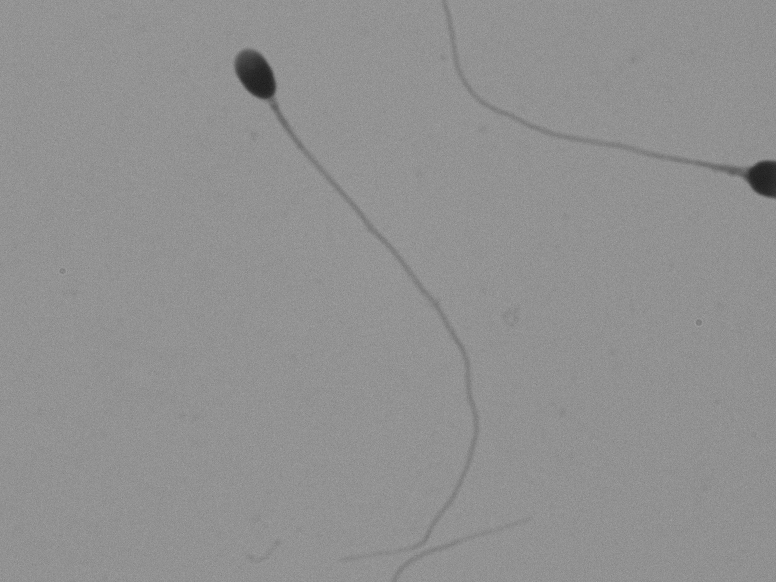Normal: (222, 40, 505, 564)
